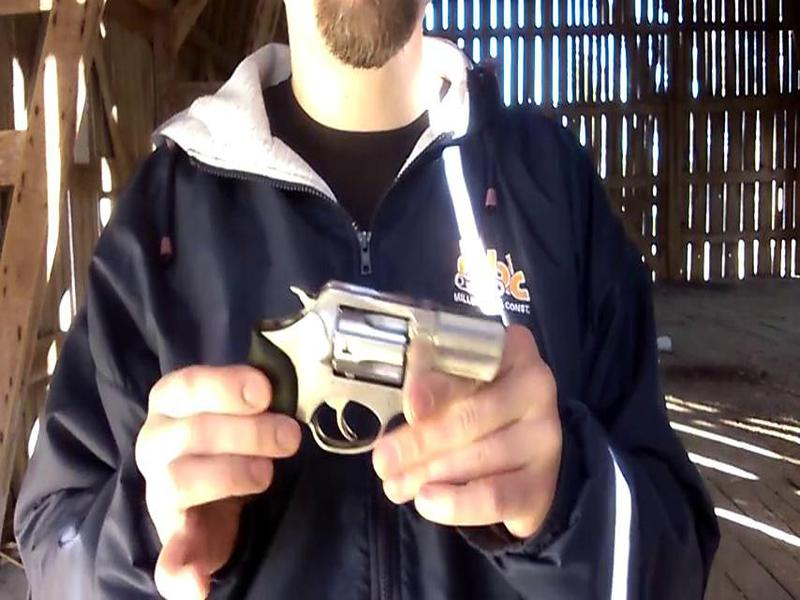Revolver: (243, 271, 509, 456)
